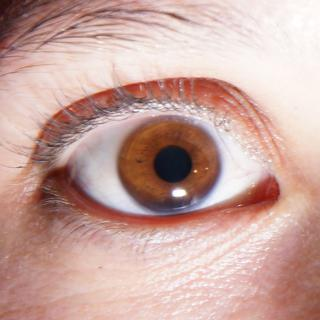pupil: (154, 146, 191, 184)
